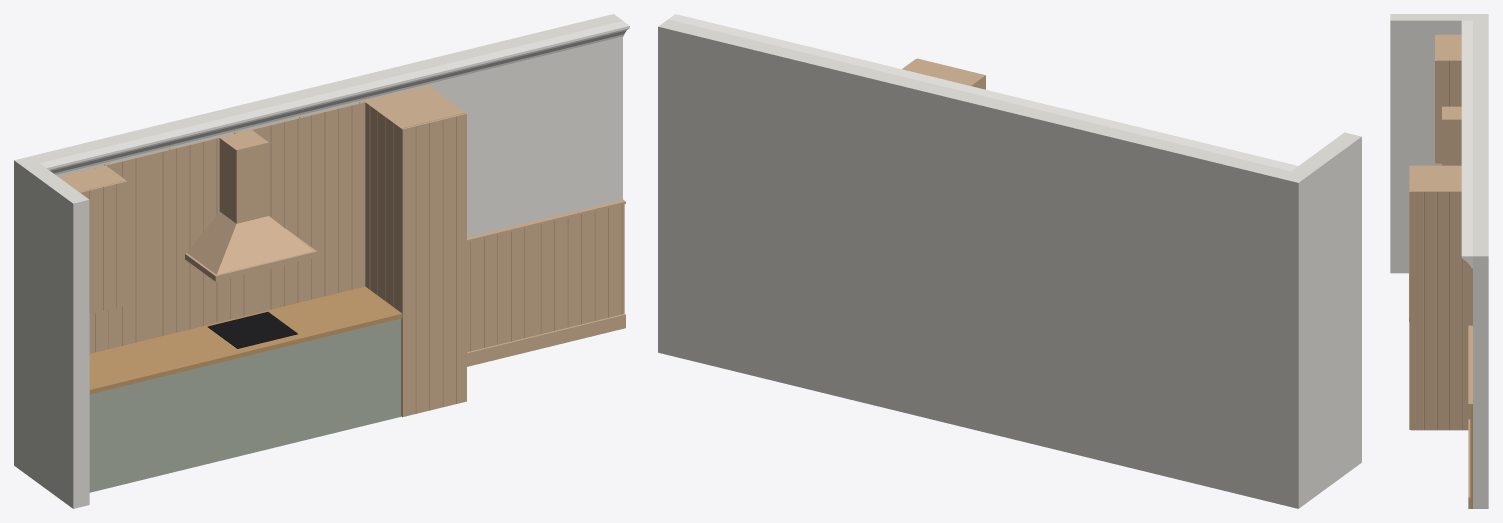
The model's file is kitchen-panelling-crouch-end.glb.
The picture shows the model from 3 angles, left to right: view 1: azimuth 30°, elevation 25°; view 2: azimuth 150°, elevation 25°; view 3: azimuth 270°, elevation 25°; orthographic projection. The views are drawn at different scales.
Parts seen in each view (by area): view 1: Room: Back wall, Room: Kitchen units, Room: Wall, window side, Tall unit: Door (hinged right), Panelling over the worktop: Sheet 3, Panelling over the worktop: Sheet 2, Dining side panelling: Sheet 2, Room: Worktop, Room: Cornice, Tall unit: Side, left (panelled), Dining side panelling: Sheet 1, Panelling over the worktop: Sheet 1 (+9 smaller); view 2: Room: Back wall, Room: Wall, window side, Room: Cornice, Tall unit: Top; view 3: Tall unit: Side, right (panelled), Room: Wall, window side, Room: Back wall, Room: Cornice, Wall cupboard: Side, right (panelled), Tall unit: Top, Cooker hood: Chimney, Wall cupboard: Top, Tall unit: Door (hinged right), Dining side panelling: Capping, Dining side panelling: Skirting, Wall cupboard: Door (hinged left) (+3 smaller).
Part boxes in pixels (left/top/right/bottom): Room: Back wall: left=14, top=14, right=622, bottom=471; Room: Kitchen units: left=89, top=318, right=401, bottom=492; Room: Wall, window side: left=23, top=163, right=89, bottom=508; Tall unit: Door (hinged right): left=401, top=113, right=466, bottom=417; Panelling over the worktop: Sheet 3: left=257, top=102, right=365, bottom=312; Panelling over the worktop: Sheet 2: left=149, top=128, right=257, bottom=339; Dining side panelling: Sheet 2: left=527, top=204, right=624, bottom=337; Room: Worktop: left=89, top=286, right=402, bottom=394; Room: Cornice: left=40, top=21, right=629, bottom=174; Tall unit: Side, left (panelled): left=364, top=100, right=402, bottom=312; Dining side panelling: Sheet 1: left=467, top=228, right=527, bottom=352; Panelling over the worktop: Sheet 1: left=58, top=154, right=149, bottom=353; Room: Back wall: left=658, top=19, right=1308, bottom=508; Room: Wall, window side: left=1291, top=132, right=1361, bottom=500; Room: Cornice: left=668, top=14, right=1297, bottom=171; Tall unit: Top: left=904, top=59, right=982, bottom=85; Tall unit: Side, right (panelled): left=1411, top=191, right=1472, bottom=430; Room: Wall, window side: left=1390, top=14, right=1472, bottom=273; Room: Back wall: left=1473, top=14, right=1488, bottom=508; Room: Cornice: left=1461, top=20, right=1472, bottom=268; Wall cupboard: Side, right (panelled): left=1437, top=60, right=1461, bottom=163; Tall unit: Top: left=1411, top=166, right=1461, bottom=190; Cooker hood: Chimney: left=1442, top=106, right=1461, bottom=165; Wall cupboard: Top: left=1437, top=35, right=1461, bottom=59; Tall unit: Door (hinged right): left=1409, top=166, right=1410, bottom=429; Dining side panelling: Capping: left=1468, top=325, right=1472, bottom=405; Dining side panelling: Skirting: left=1468, top=419, right=1470, bottom=508; Wall cupboard: Door (hinged left): left=1435, top=35, right=1436, bottom=163.
Size of the model in its own units: 5.55 by 2.7 by 0.95.
